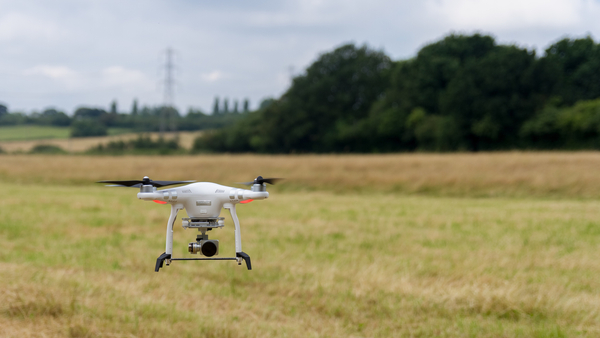drone: (95, 174, 286, 274)
